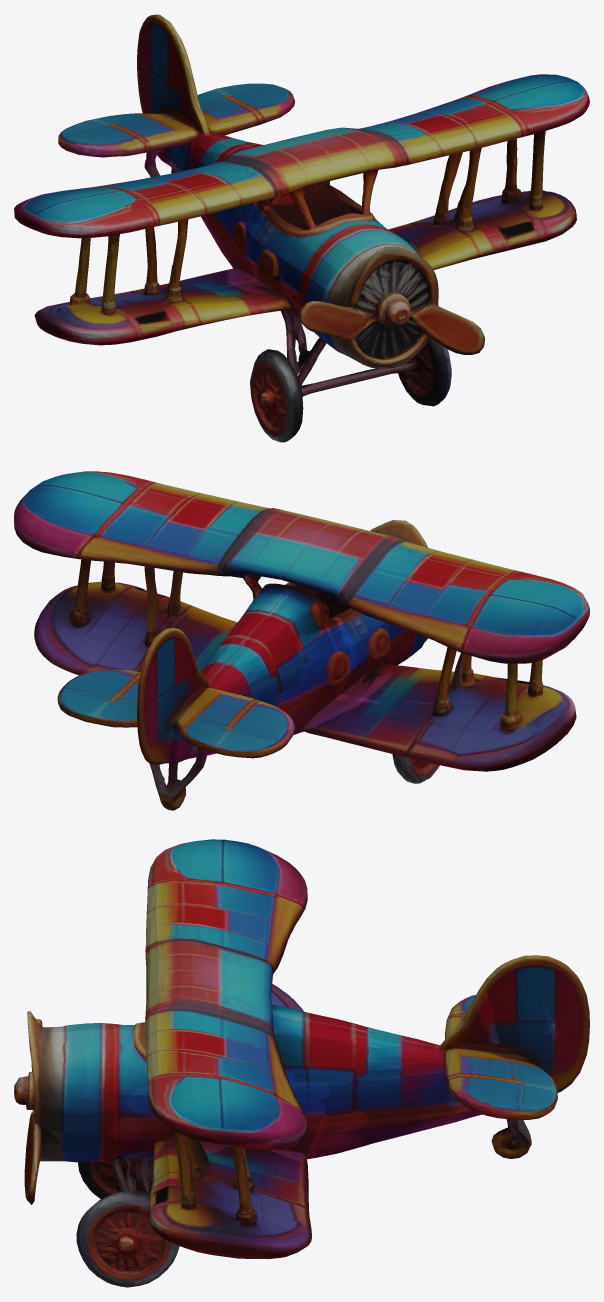
File: airplane.glb
3 renders of one model, top to bottom at view 1: azimuth 30°, elevation 25°; view 2: azimuth 150°, elevation 25°; view 3: azimuth 270°, elevation 25°, orthographic. The views are drawn at different scales.
Parts seen in each view (by area): view 1: world; view 2: world; view 3: world.
Boxes of the visible parts, x1=… form: world: x1=14, y1=14, x2=589, y2=442; world: x1=14, y1=471, x2=589, y2=810; world: x1=14, y1=839, x2=589, y2=1287.
Bounding box in the file's own units: 0.9997 × 0.4658 × 0.8316.
Materials: 1 (1 with a texture image).
